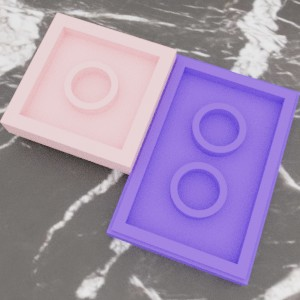lego: (106, 53, 300, 285), (0, 12, 176, 175)
